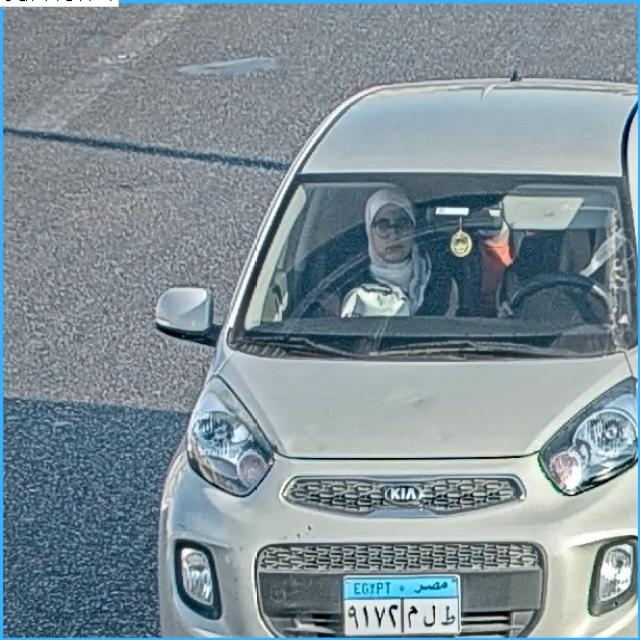windshield: (246, 171, 630, 349)
